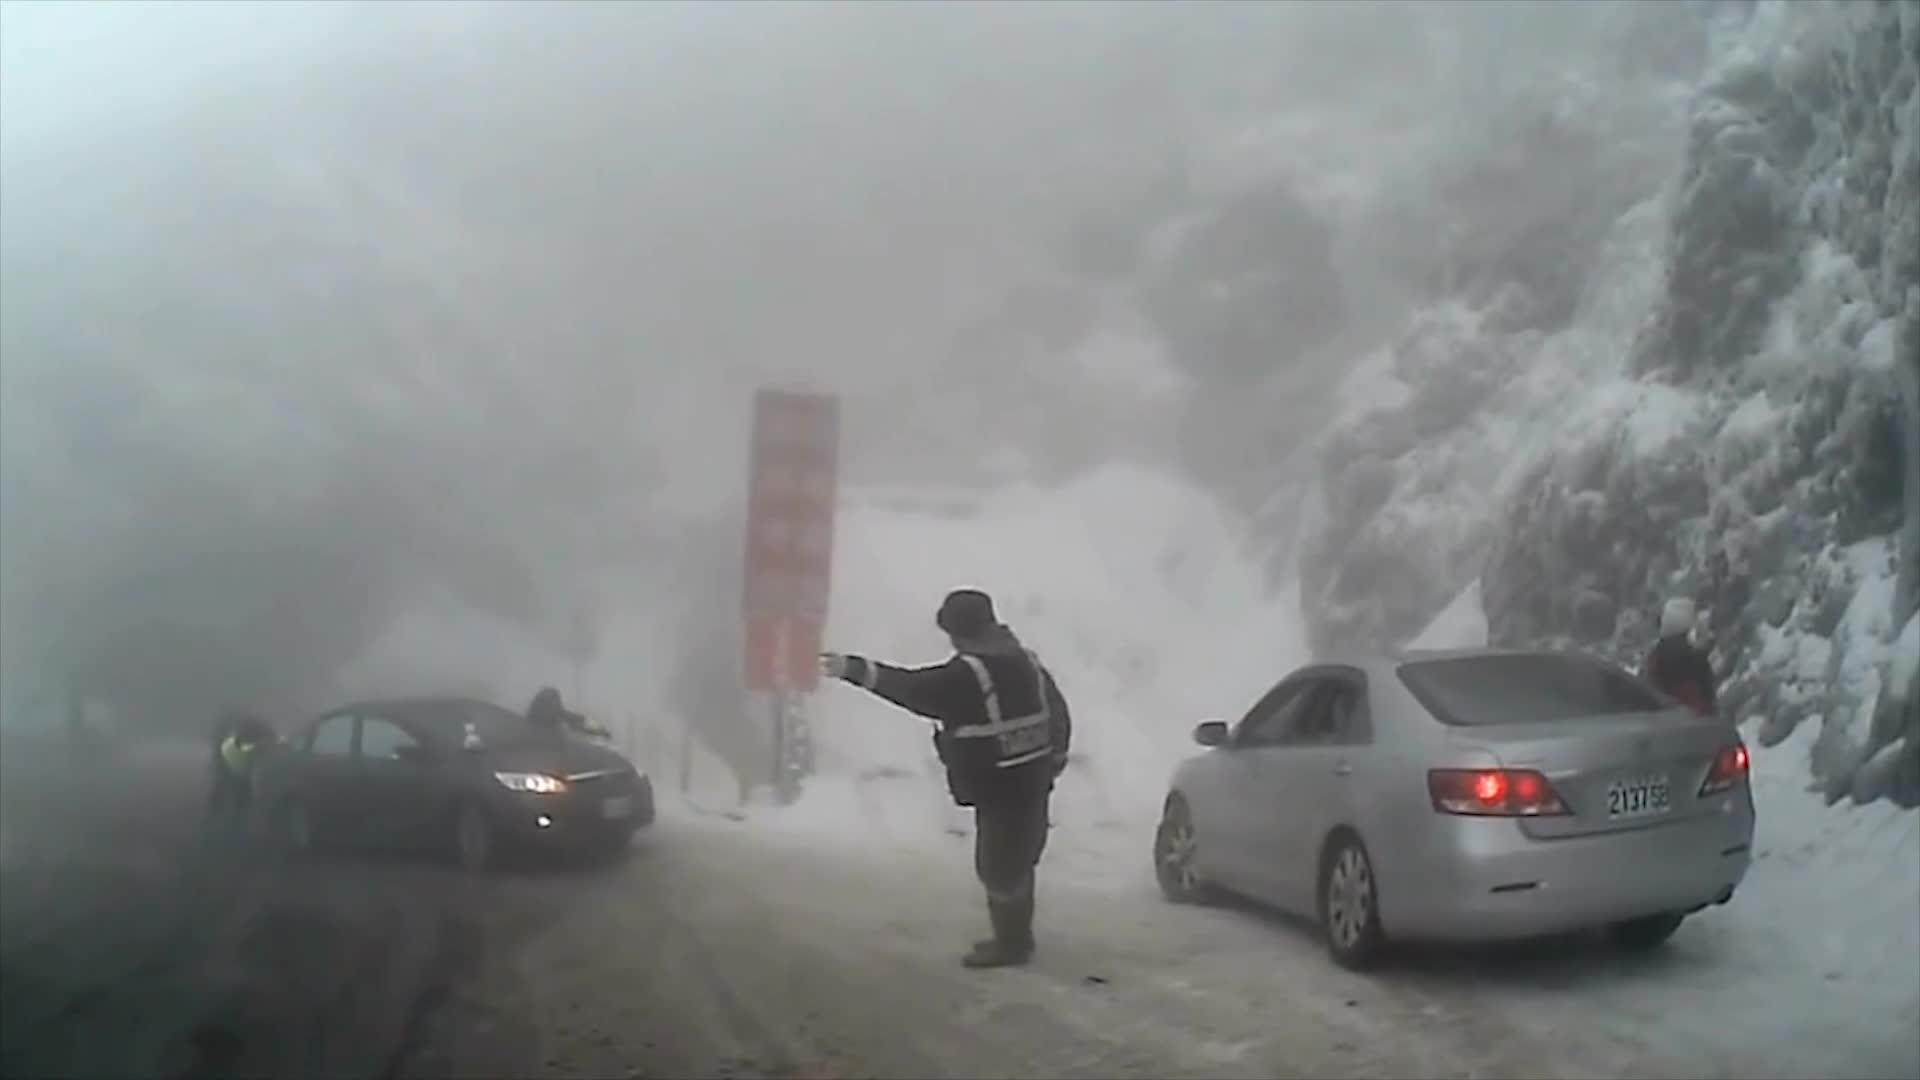pedestrian: (821, 591, 1075, 973), (1633, 595, 1714, 861), (211, 719, 278, 831)
vehicle: (1151, 646, 1755, 970), (244, 692, 653, 876)
